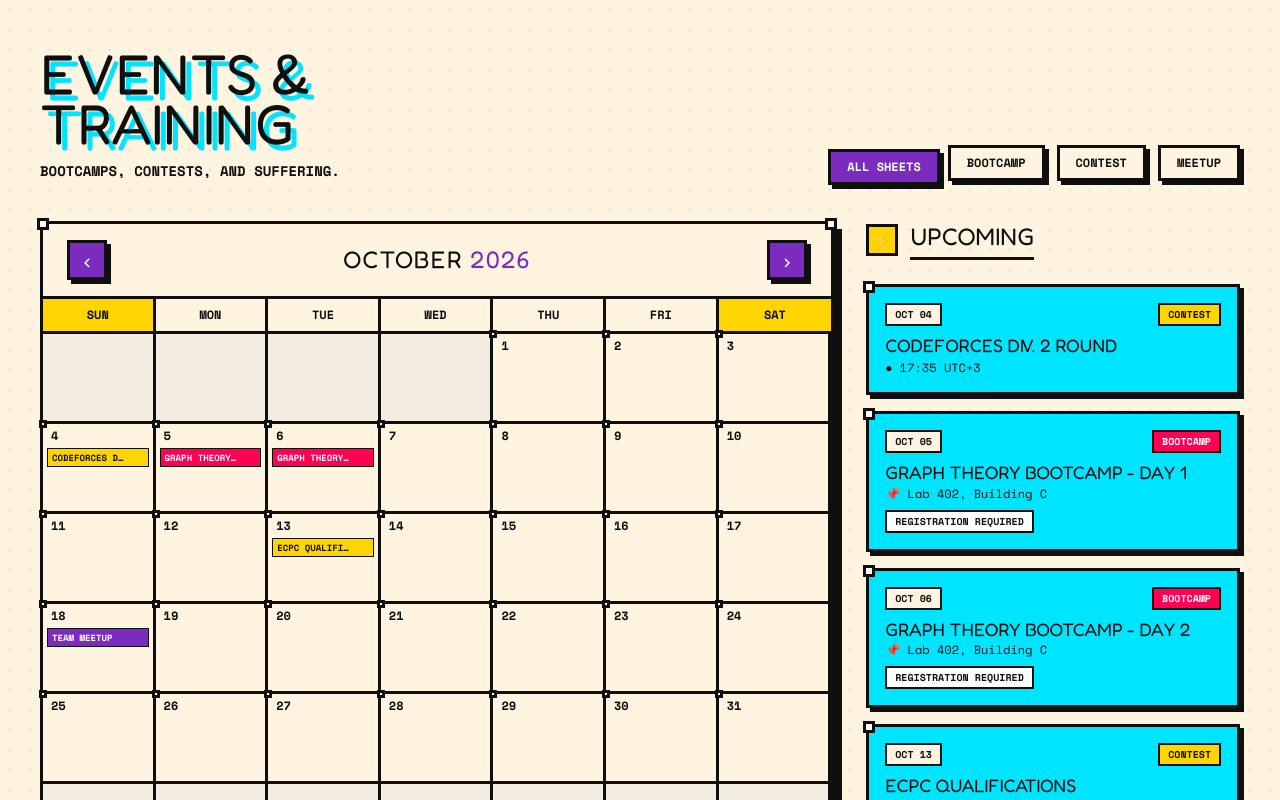
Scenario: EventsPage › opens and closes the event detail modal
Click the heading "ECPC Qualifications".
click(981, 785)  # box x1=885 y1=774 x2=1076 y2=796
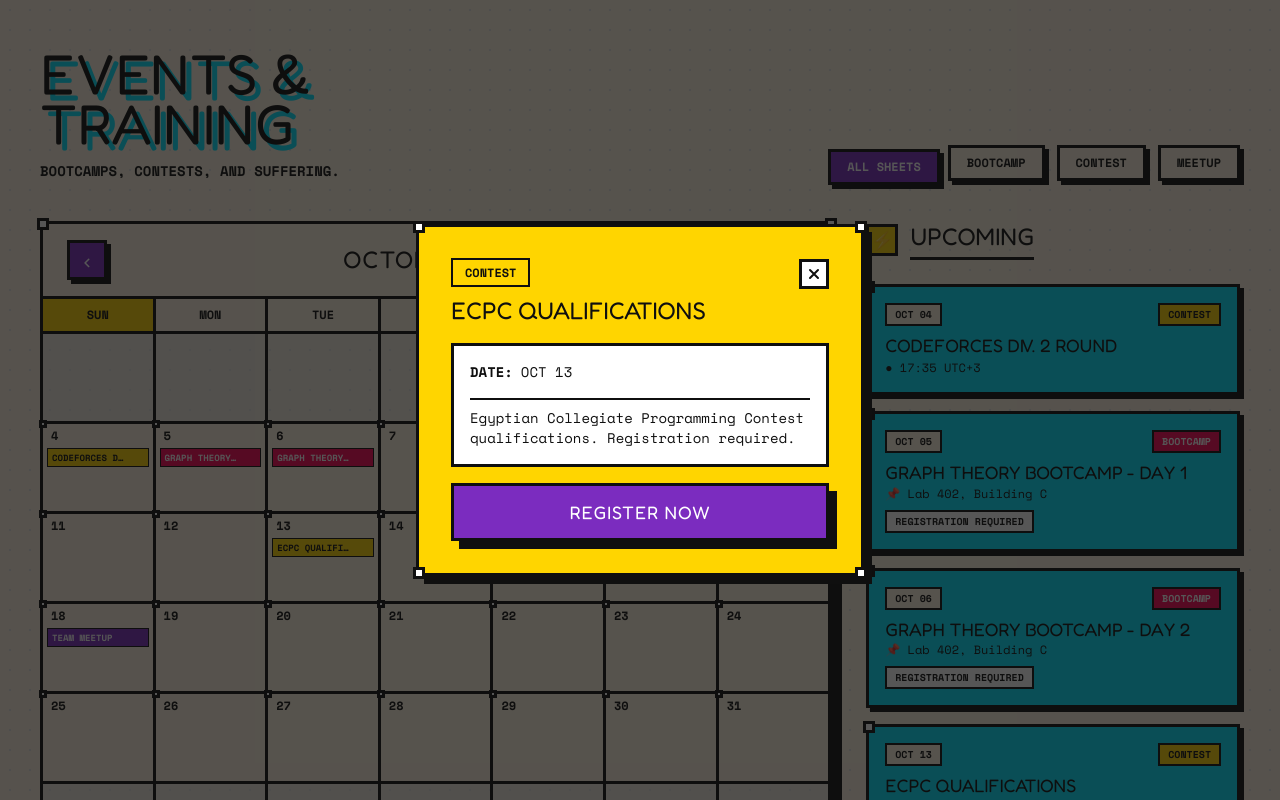
Expected: the link "REGISTER NOW" is shown, x1=451 y1=483 x2=829 y2=541
Expected: the text "Egyptian Collegiate Programming Contest" is shown, x1=470 y1=407 x2=804 y2=448
Click the button.
click(814, 274)  # box x1=799 y1=259 x2=829 y2=289
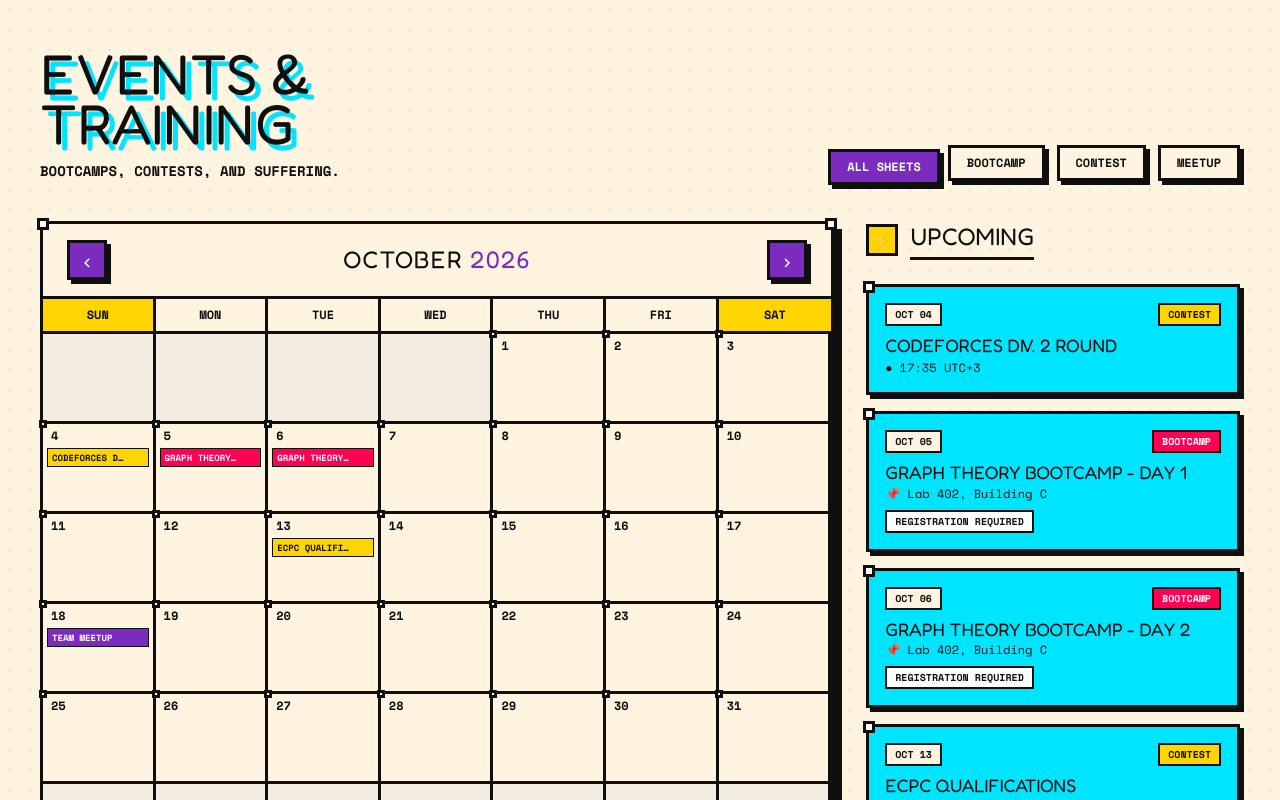
Expected: the link "REGISTER NOW" is gone
